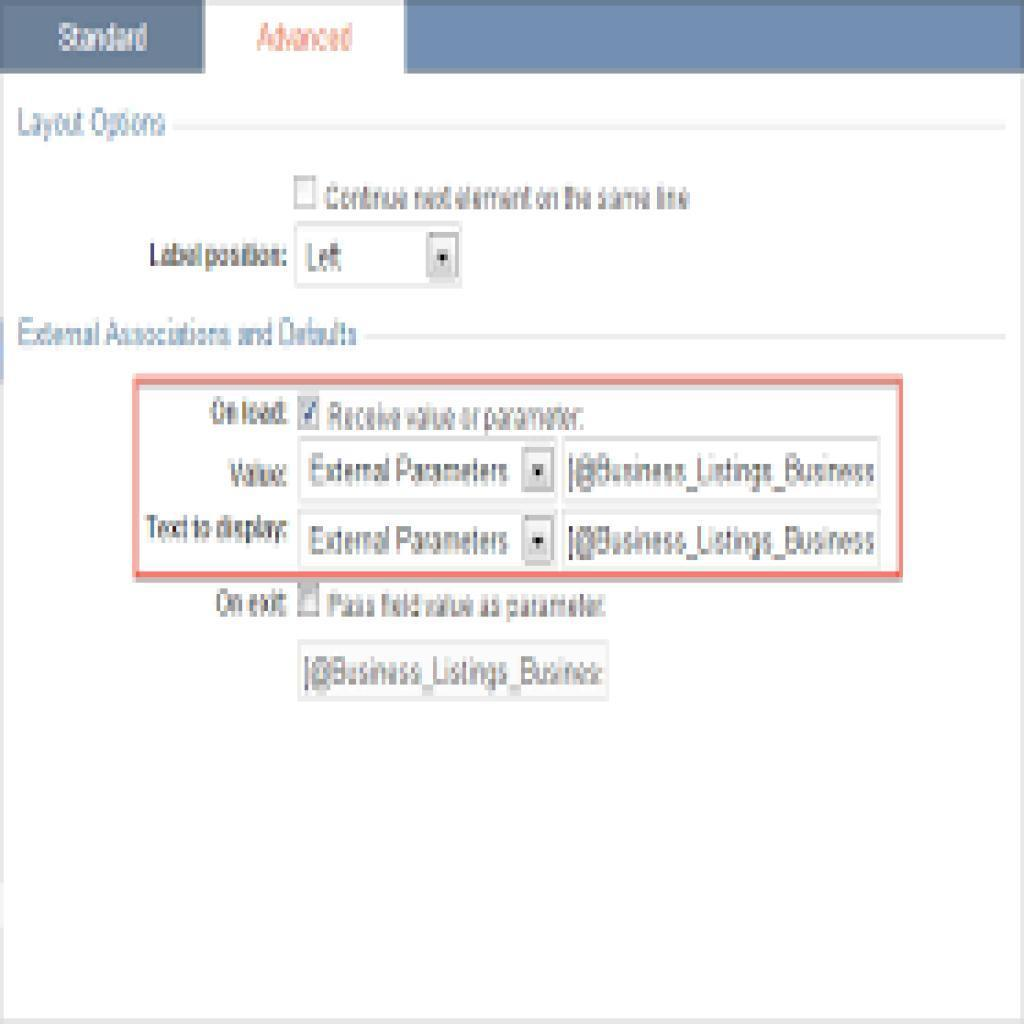button: (1, 1, 207, 74)
checkbox: (291, 170, 322, 216), (296, 582, 323, 621)
dropdown: (298, 508, 559, 572), (297, 438, 557, 502), (295, 227, 464, 290)
input: (562, 435, 883, 506), (561, 510, 881, 574)
label: (248, 17, 360, 59)
